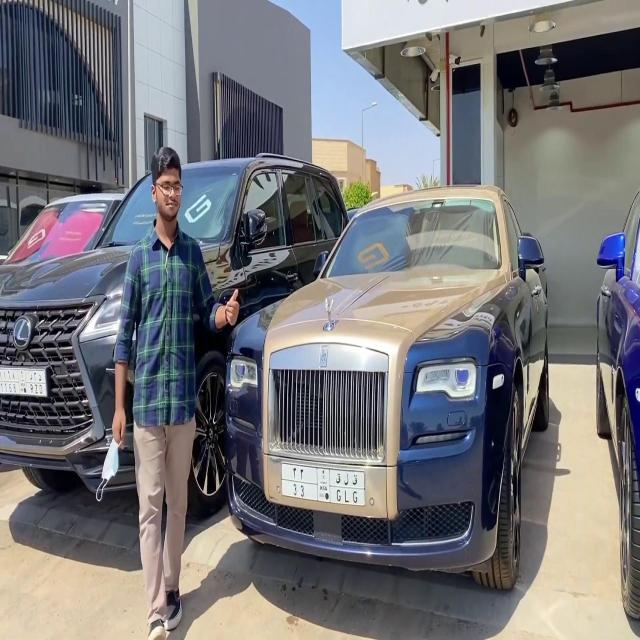license_plate: (310, 462, 364, 508), (0, 358, 48, 402)
